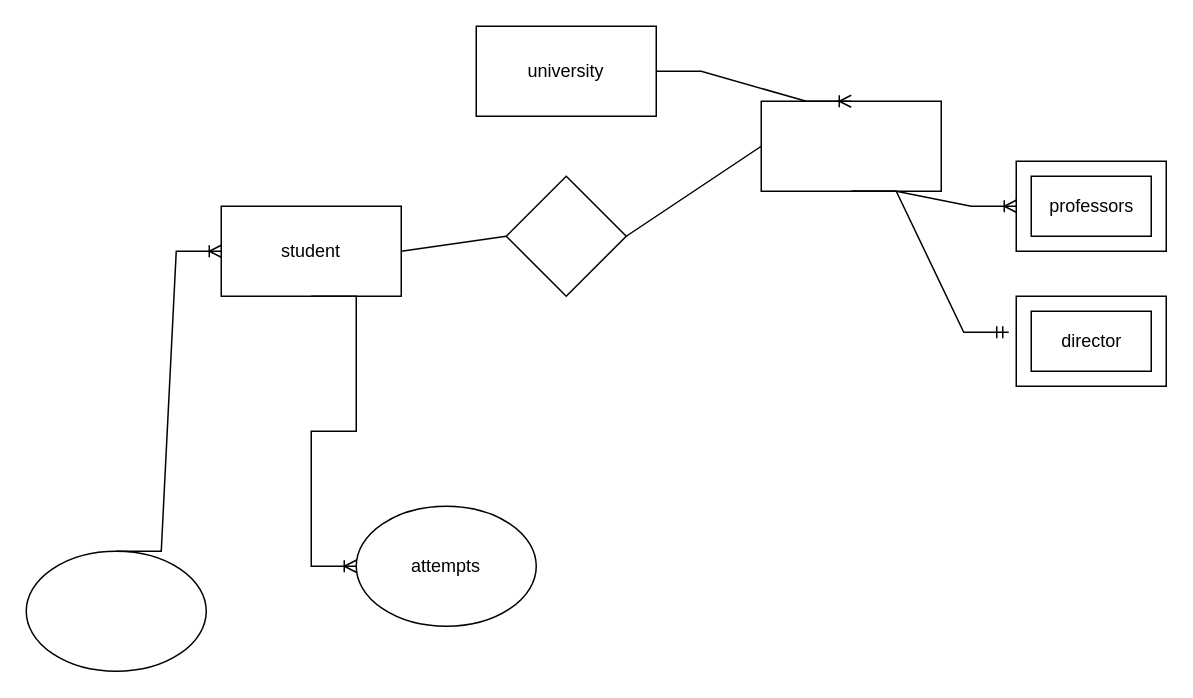
Image size: 1193x698. Some labels were removed from this diagram. Here are the shapes that lost their labels. From the top down, the box of each, then its label:
(760, 100, 941, 191): faculty
(505, 175, 626, 296): enroll
(25, 550, 206, 671): group
